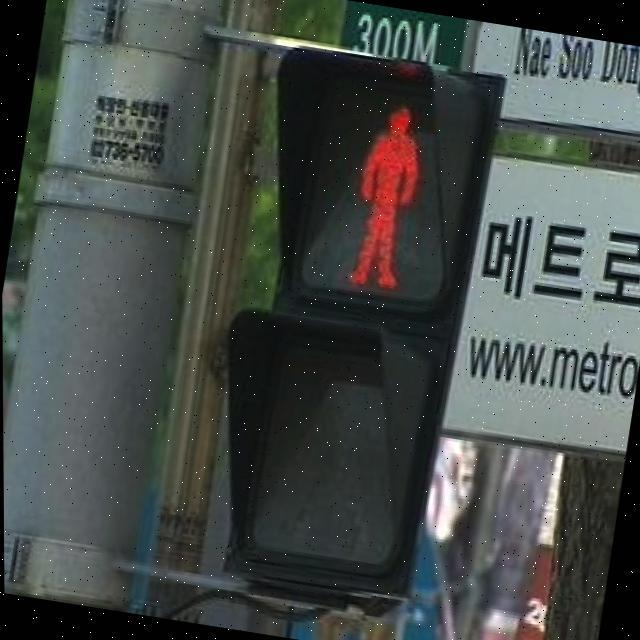red_light: (304, 82, 464, 301)
